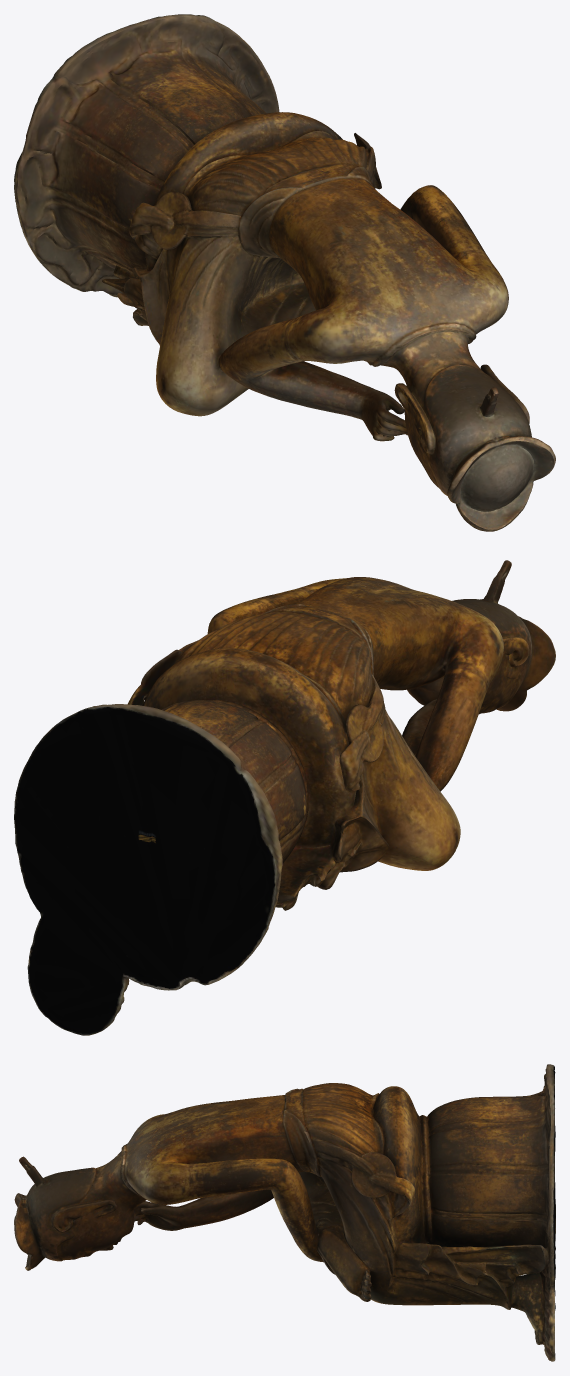
Rendered from bodhisattva_statue.glb.
The picture shows the model from 3 angles, top to bottom: view 1: azimuth 30°, elevation 25°; view 2: azimuth 150°, elevation 25°; view 3: azimuth 270°, elevation 25°; orthographic projection. The views are drawn at different scales.
Visible parts, largest first — view 1: duk003312-000-30000; view 2: duk003312-000-30000; view 3: duk003312-000-30000.
Boxes of the visible parts, x1,y1,x2,y2 form: duk003312-000-30000: (14, 14, 555, 531); duk003312-000-30000: (14, 560, 555, 1035); duk003312-000-30000: (14, 1064, 555, 1361).
Size of the model in its own units: 406 by 474 by 913.
Materials: 1 (1 with a texture image).
